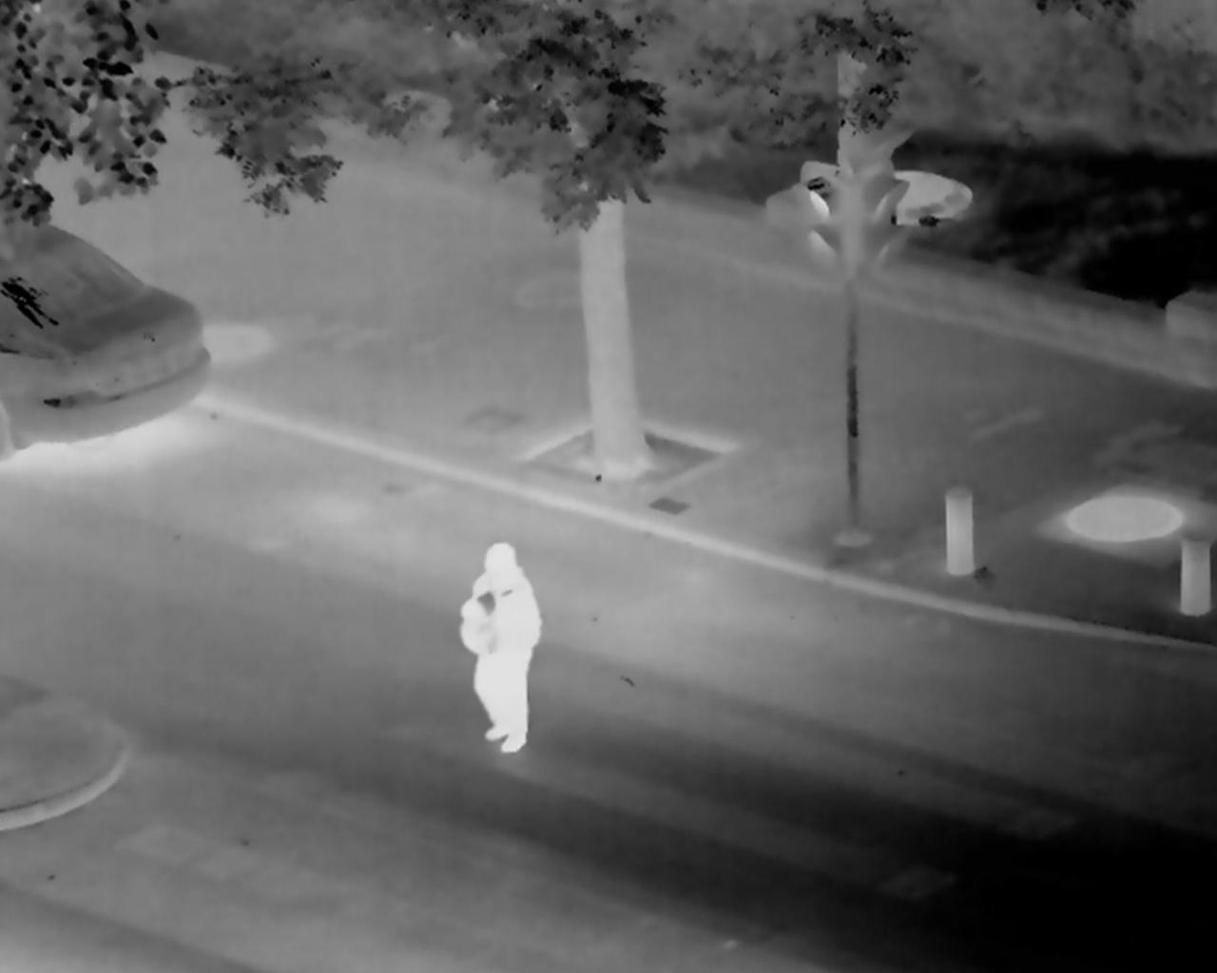person: (453, 540, 570, 752)
